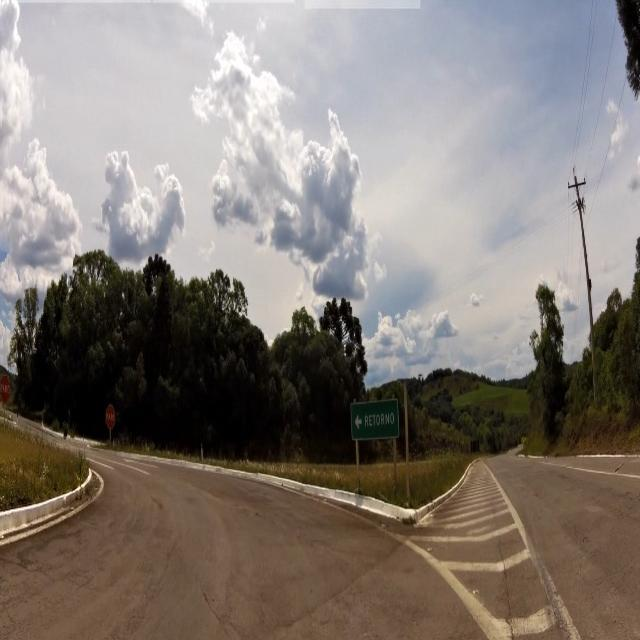I-4: (348, 398, 399, 439)
R-1: (105, 402, 117, 433), (0, 371, 12, 398)
